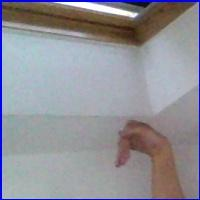del: (111, 112, 170, 172)
